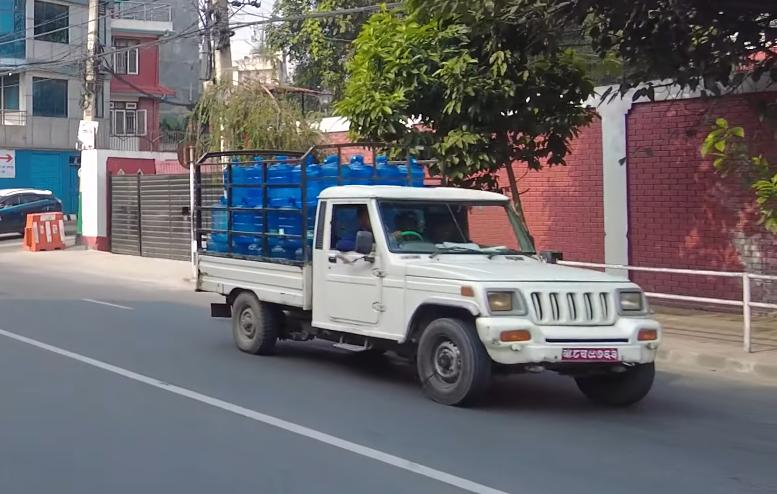car: (0, 179, 74, 254)
transport_vehicle: (189, 136, 668, 420)
